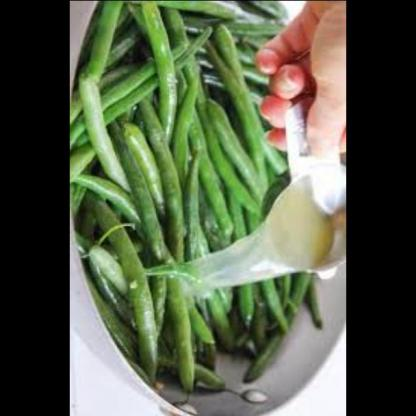beans: (78, 0, 296, 397)
